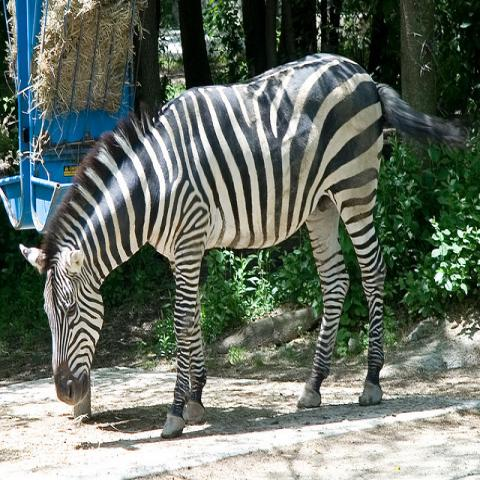truck: (0, 2, 140, 240)
